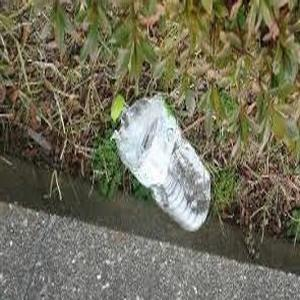Plastic: (109, 95, 213, 233)
